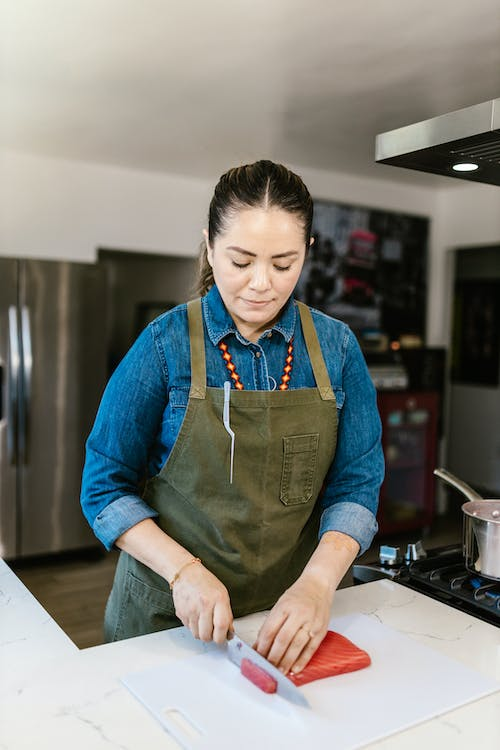knife: (224, 629, 310, 709)
